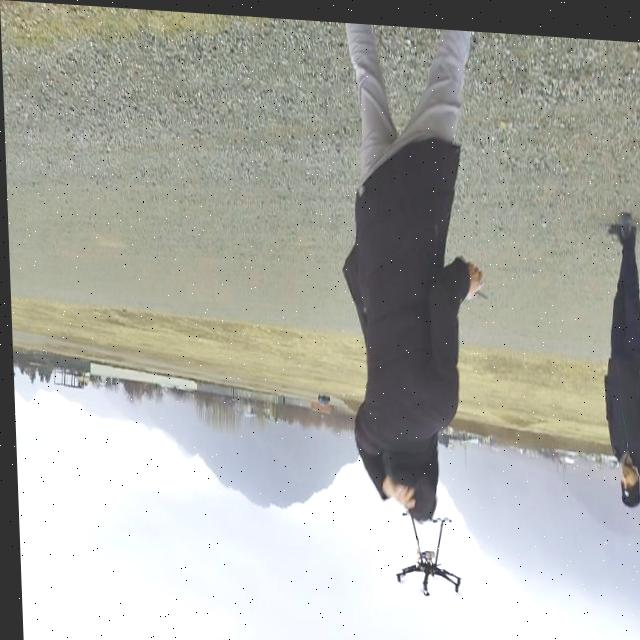drone: (389, 517, 462, 598)
